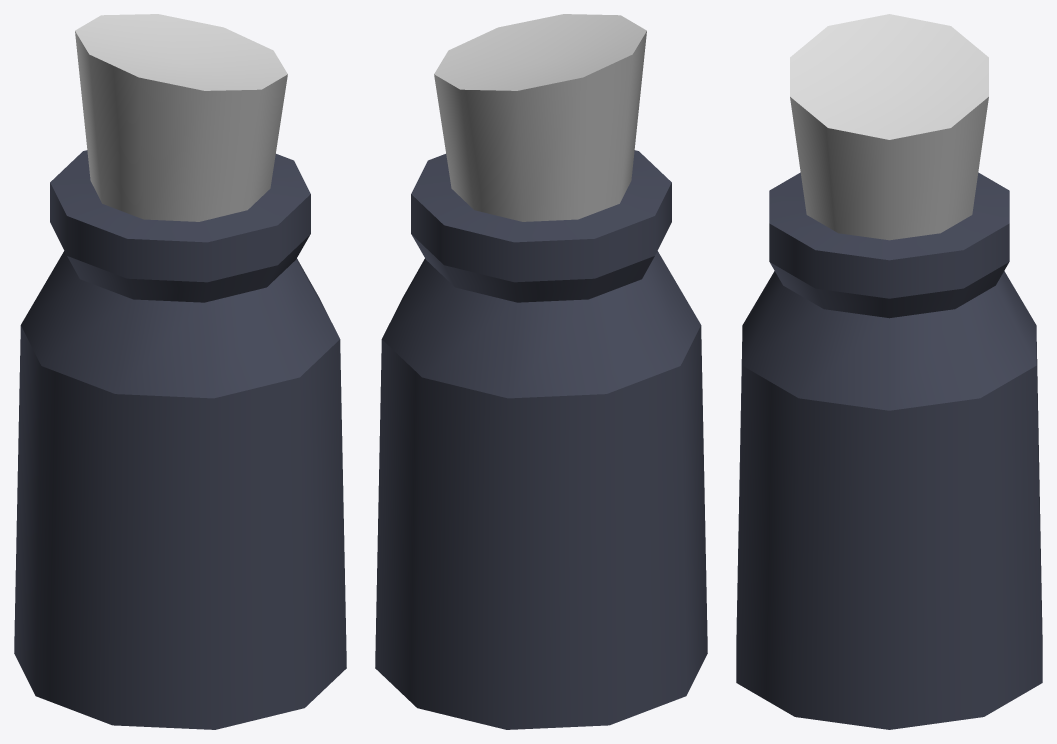
Rendered from PT_Medicine_Bottle_01.fbx.
3 views of the same model, side by side, from view 1: azimuth 30°, elevation 25°; view 2: azimuth 150°, elevation 25°; view 3: azimuth 270°, elevation 25° (orthographic). The views are drawn at different scales.
Parts seen in each view (by area): view 1: PT_Medicine_Bottle_01; view 2: PT_Medicine_Bottle_01; view 3: PT_Medicine_Bottle_01.
Boxes of the visible parts, bbox=[...] form: PT_Medicine_Bottle_01: bbox=[14, 14, 346, 729]; PT_Medicine_Bottle_01: bbox=[375, 14, 707, 729]; PT_Medicine_Bottle_01: bbox=[736, 14, 1042, 729].
Size of the model in its own units: 4.98 by 10.33 by 4.74.
Materials: 1 (1 with a texture image).
